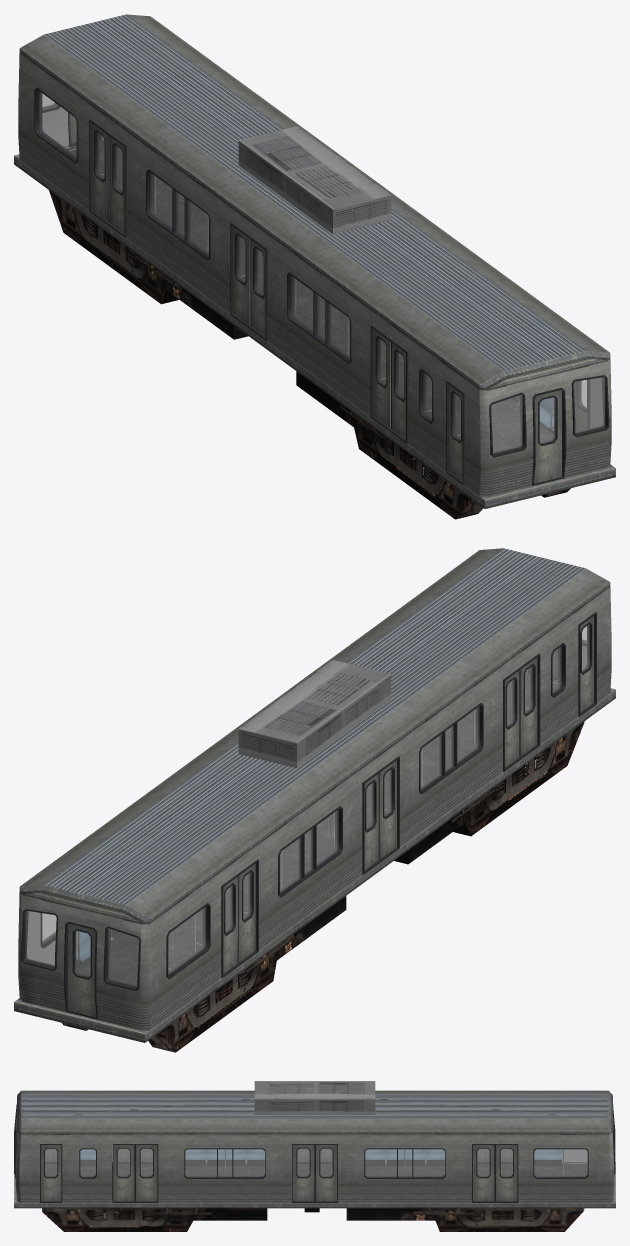
The model's file is Train.glb.
3 renders of one model, top to bottom at view 1: azimuth 30°, elevation 25°; view 2: azimuth 150°, elevation 25°; view 3: azimuth 270°, elevation 25°, orthographic. The views are drawn at different scales.
Visible parts, largest first — view 1: subway_car, Door.015, Glass.002, Glass.003, Door.004, Door.002, Door, Glass.009, Glass.001, Glass.008, Door.001, Door.003 (+3 smaller); view 2: subway_car, Door.014, Glass.003, Glass.002, Door.005, Door.001, Door.003, Glass.001, Glass.010, Glass.011, Door, Door.002 (+2 smaller); view 3: subway_car, Glass.006, Glass.007, Glass.005, seats.004, Door.006, Door.009, Door.010, Door.011, seats.006, Door.007, Door.008 (+4 smaller).
Part boxes in pixels (x1=…): subway_car: x1=14, y1=14, x2=615, y2=519; Door.015: x1=534, y1=390, x2=562, y2=483; Glass.002: x1=150, y1=173, x2=208, y2=255; Glass.003: x1=291, y1=276, x2=349, y2=358; Door.004: x1=373, y1=329, x2=391, y2=428; Door.002: x1=233, y1=226, x2=250, y2=325; Door: x1=92, y1=123, x2=109, y2=222; Glass.009: x1=491, y1=395, x2=522, y2=453; Glass.001: x1=39, y1=91, x2=76, y2=158; Glass.008: x1=574, y1=377, x2=604, y2=433; Door.001: x1=110, y1=136, x2=124, y2=233; Door.003: x1=251, y1=239, x2=265, y2=336; subway_car: x1=14, y1=548, x2=615, y2=1052; Door.014: x1=68, y1=923, x2=96, y2=1017; Glass.003: x1=421, y1=707, x2=479, y2=789; Glass.002: x1=280, y1=810, x2=338, y2=892; Door.005: x1=519, y1=657, x2=537, y2=756; Door.001: x1=238, y1=864, x2=255, y2=962; Door.003: x1=379, y1=760, x2=396, y2=859; Glass.001: x1=168, y1=907, x2=205, y2=974; Glass.010: x1=25, y1=911, x2=56, y2=966; Glass.011: x1=108, y1=928, x2=138, y2=986; Door: x1=223, y1=876, x2=237, y2=973; Door.002: x1=364, y1=773, x2=378, y2=870; subway_car: x1=14, y1=1081, x2=615, y2=1231; Glass.006: x1=365, y1=1149, x2=444, y2=1176; Glass.007: x1=185, y1=1149, x2=264, y2=1176; Glass.005: x1=534, y1=1149, x2=587, y2=1176; seats.004: x1=365, y1=1149, x2=444, y2=1165; Door.006: x1=495, y1=1145, x2=517, y2=1201; Door.009: x1=292, y1=1145, x2=314, y2=1201; Door.010: x1=135, y1=1145, x2=157, y2=1201; Door.011: x1=113, y1=1145, x2=135, y2=1201; seats.006: x1=185, y1=1149, x2=264, y2=1165; Door.007: x1=473, y1=1145, x2=495, y2=1201; Door.008: x1=315, y1=1145, x2=336, y2=1201.
Size of the model in its own units: 3.83 by 5.33 by 23.39.
Materials: 12 (11 with a texture image).
